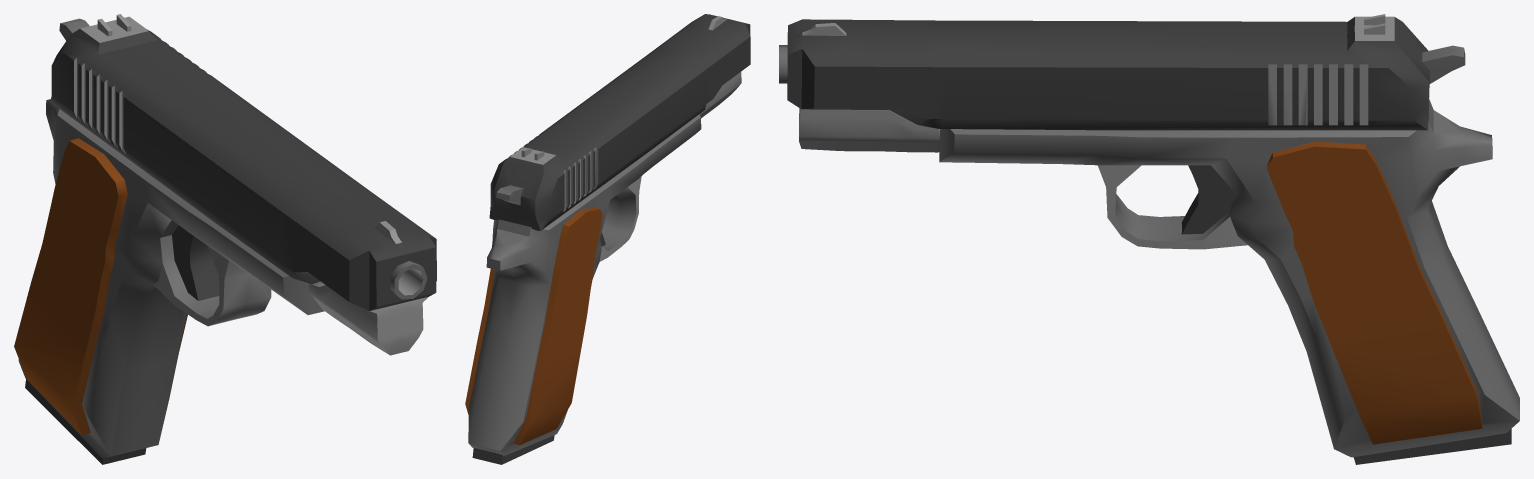
The model's file is 03-Heavy-pistol.glb.
3 renders of one model, left to right at view 1: azimuth 30°, elevation 25°; view 2: azimuth 150°, elevation 25°; view 3: azimuth 270°, elevation 25°, orthographic. The views are drawn at different scales.
Visible parts, largest first — view 1: Heavy pistol; view 2: Heavy pistol; view 3: Heavy pistol.
Part boxes in pixels (x1=…): Heavy pistol: x1=14, y1=14, x2=436, y2=464; Heavy pistol: x1=465, y1=14, x2=750, y2=464; Heavy pistol: x1=779, y1=14, x2=1519, y2=464.
Size of the model in its own units: 0.0528 by 0.2202 by 0.34.
1 material, 1 textured.
